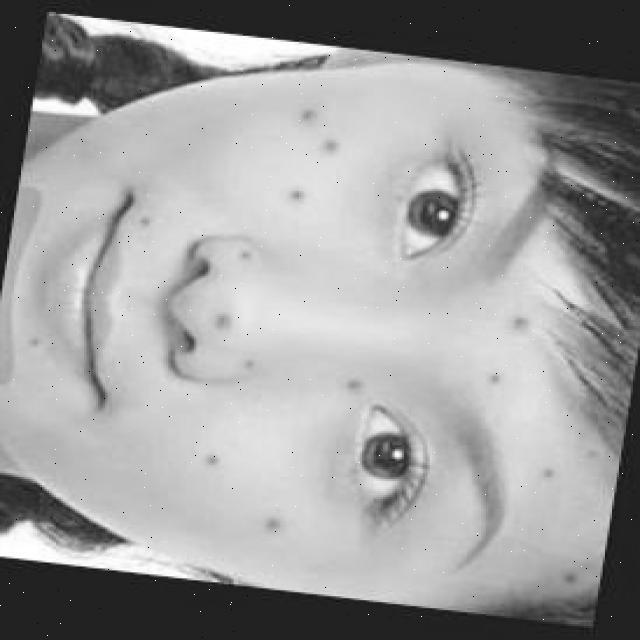Acne: (130, 98, 605, 597)
